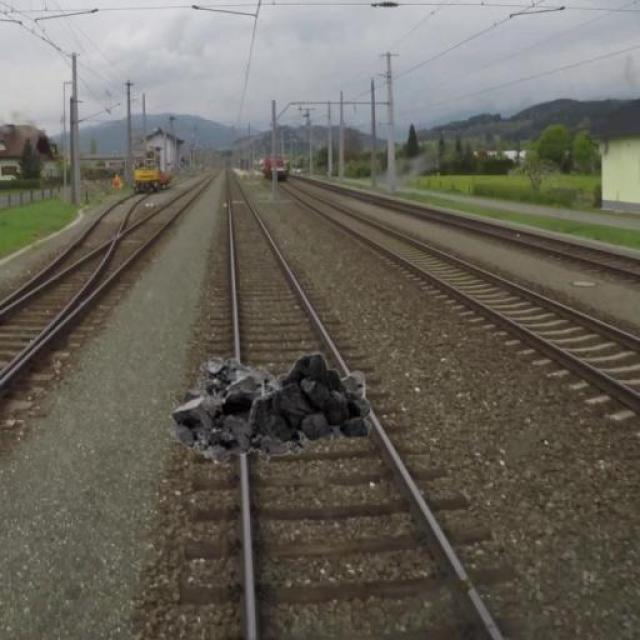Stone: (170, 346, 374, 461)
